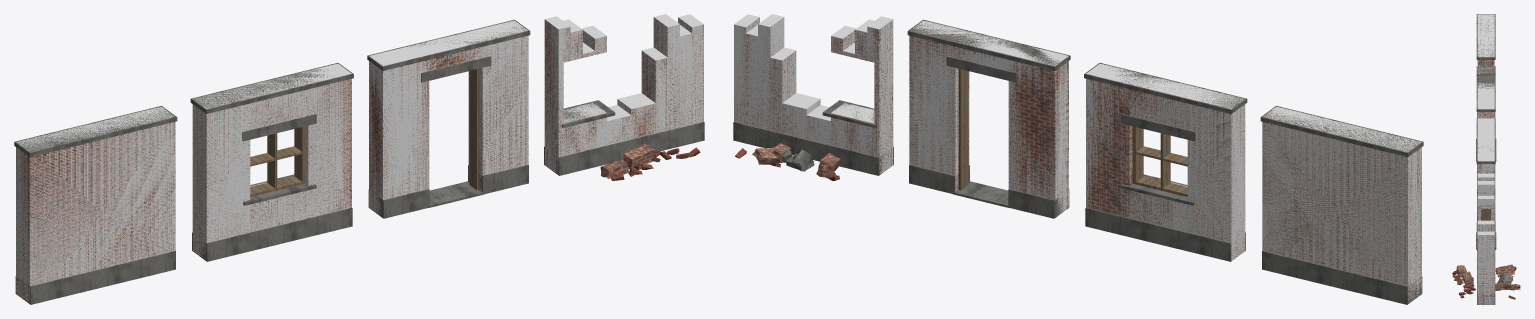
Rendered from walls_2_game.glb.
The picture shows the model from 3 angles, left to right: view 1: azimuth 30°, elevation 25°; view 2: azimuth 150°, elevation 25°; view 3: azimuth 270°, elevation 25°; orthographic projection. The views are drawn at different scales.
Parts seen in each view (by area): view 1: COL_wall_brick_solid, wall_brick_solid, COL_wall_brick_window, COL_wall_brick_door, wall_brick_window, COL_wall_brick_ruined, wall_brick_door, wall_brick_ruined; view 2: COL_wall_brick_solid, wall_brick_window, wall_brick_solid, COL_wall_brick_window, wall_brick_door, COL_wall_brick_door, COL_wall_brick_ruined, wall_brick_ruined; view 3: COL_wall_brick_ruined, wall_brick_ruined, COL_wall_brick_door, COL_wall_brick_solid, wall_brick_window, COL_wall_brick_window, wall_brick_solid, wall_brick_door.
Boxes of the visible parts, left/top/right/bottom form: COL_wall_brick_solid: left=16, top=107, right=175, bottom=303; wall_brick_solid: left=14, top=106, right=177, bottom=304; COL_wall_brick_window: left=192, top=63, right=351, bottom=259; COL_wall_brick_door: left=369, top=20, right=528, bottom=215; wall_brick_window: left=190, top=63, right=353, bottom=261; COL_wall_brick_ruined: left=544, top=14, right=703, bottom=174; wall_brick_door: left=367, top=19, right=530, bottom=218; wall_brick_ruined: left=544, top=17, right=704, bottom=180; COL_wall_brick_solid: left=1262, top=106, right=1421, bottom=302; wall_brick_window: left=1084, top=63, right=1247, bottom=261; wall_brick_solid: left=1260, top=106, right=1423, bottom=304; COL_wall_brick_window: left=1086, top=63, right=1245, bottom=260; wall_brick_door: left=907, top=19, right=1070, bottom=218; COL_wall_brick_door: left=909, top=20, right=1068, bottom=215; COL_wall_brick_ruined: left=734, top=14, right=893, bottom=174; wall_brick_ruined: left=733, top=18, right=893, bottom=180; COL_wall_brick_ruined: left=1477, top=173, right=1494, bottom=304; wall_brick_ruined: left=1452, top=178, right=1520, bottom=304; COL_wall_brick_door: left=1477, top=118, right=1494, bottom=173; COL_wall_brick_solid: left=1477, top=14, right=1494, bottom=65; wall_brick_window: left=1476, top=66, right=1496, bottom=199; COL_wall_brick_window: left=1477, top=66, right=1494, bottom=117; wall_brick_solid: left=1476, top=14, right=1495, bottom=65; wall_brick_door: left=1476, top=118, right=1495, bottom=250.
Size of the model in its own units: 13.92 by 3 by 2.02.
4 materials, 4 textured.
